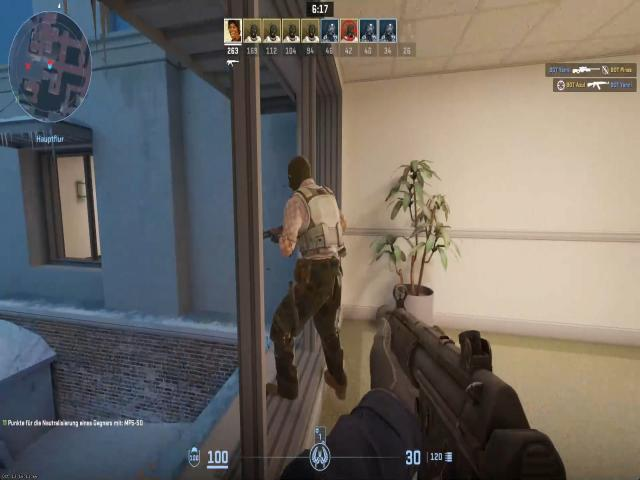T: (280, 178, 344, 276)
T-Head: (286, 154, 316, 197)
